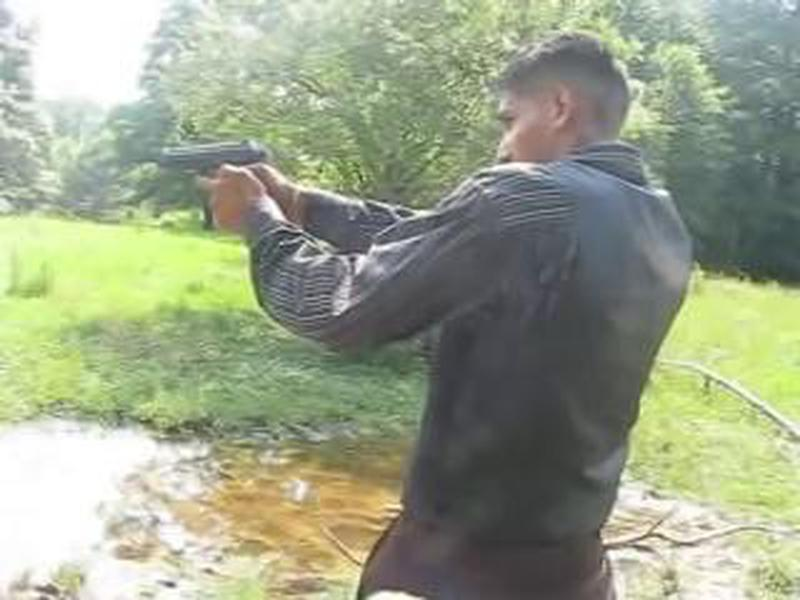Pistola: (140, 129, 281, 189)
